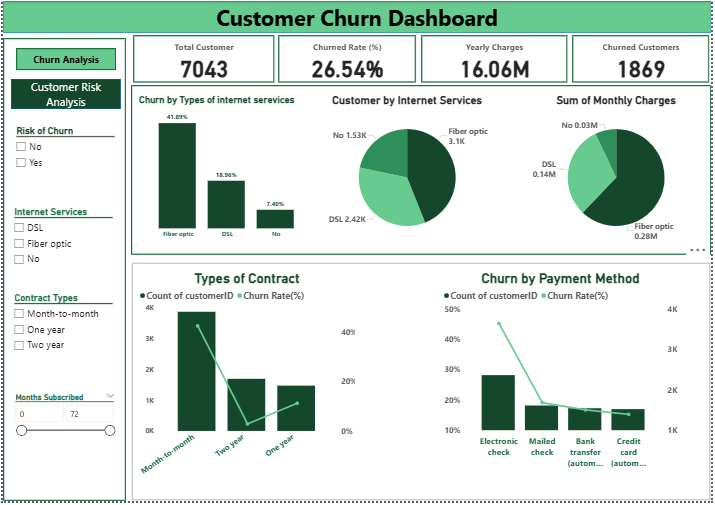

This screenshot's page, from the dashboard's own definition file:
{"tool":"powerbi","page":{"name":"Page 1","canvas":[1700,1200],"ordinal":0},"visuals":[{"type":"shape","box":[0,0,1700,76.8],"z":0},{"type":"cardVisual","fields":{"Data":["Clean_Telco_Customer_Churn_Dataset.Total Customer"]},"box":[307.1,76.8,349.1,124.3],"z":1000},{"type":"shape","box":[0,88.8,295.2,1111.2],"z":2000},{"type":"shape","box":[31.7,112.3,240.5,53.3],"z":3000},{"type":"shape","box":[18.7,187.2,263.5,72],"z":4000},{"type":"slicer","fields":{"Values":["Clean_Telco_Customer_Churn_Dataset.Churn"]},"box":[19.2,292.8,261.6,136.8],"z":5000},{"type":"slicer","fields":{"Values":["Clean_Telco_Customer_Churn_Dataset.Contract"]},"box":[14.4,693.6,261.6,208.8],"z":6000},{"type":"slicer","fields":{"Values":["Clean_Telco_Customer_Churn_Dataset.tenure"]},"box":[16.8,933.6,261.6,225.6],"z":7000},{"type":"slicer","fields":{"Values":["Clean_Telco_Customer_Churn_Dataset.InternetService"]},"box":[14.4,487.2,261.6,158.4],"z":8000},{"type":"cardVisual","fields":{"Data":["Clean_Telco_Customer_Churn_Dataset.Churn Rate(%)"]},"box":[656.2,76.8,341.8,124.3],"z":9000},{"type":"cardVisual","fields":{"Data":["Clean_Telco_Customer_Churn_Dataset.Yearly Charge"]},"box":[998.1,76.8,361.9,124.3],"z":10000},{"type":"cardVisual","fields":{"Data":["Clean_Telco_Customer_Churn_Dataset.Churned Customers"]},"box":[1360,76.8,340,124.3],"z":11000},{"type":"shape","box":[307.1,201.1,1392.9,407.6],"z":12000},{"type":"clusteredColumnChart","title":"Churn by Types of internet serevices","fields":{"Category":["Clean_Telco_Customer_Churn_Dataset.InternetService"],"Y":["Clean_Telco_Customer_Churn_Dataset.Churn Rate(%)"]},"box":[321.7,223,433.2,356.5],"z":13000},{"type":"pieChart","title":"Customer by Internet Services","fields":{"Y":["CountNonNull(Clean_Telco_Customer_Churn_Dataset.customerID)"],"Category":["Clean_Telco_Customer_Churn_Dataset.InternetService"]},"box":[760.4,223,418.6,371.1],"z":14000},{"type":"pieChart","title":"Sum of Monthly Charges","fields":{"Category":["Clean_Telco_Customer_Churn_Dataset.InternetService"],"Y":["Sum(Clean_Telco_Customer_Churn_Dataset.MonthlyCharges)"]},"box":[1263.1,223,418.6,371.1],"z":15000},{"type":"shape","box":[307.2,626.4,1392,573.6],"z":15001},{"type":"lineClusteredColumnComboChart","title":"Types of Contract","fields":{"Category":["Clean_Telco_Customer_Churn_Dataset.Contract"],"Y":["CountNonNull(Clean_Telco_Customer_Churn_Dataset.customerID)"],"Y2":["Clean_Telco_Customer_Churn_Dataset.Churn Rate(%)"]},"box":[321.6,645.6,528,513.6],"z":15002},{"type":"lineClusteredColumnComboChart","title":"Churn by Payment Method","fields":{"Y2":["Clean_Telco_Customer_Churn_Dataset.Churn Rate(%)"],"Y":["CountNonNull(Clean_Telco_Customer_Churn_Dataset.customerID)"],"Category":["Clean_Telco_Customer_Churn_Dataset.PaymentMethod"]},"box":[1051.2,645.6,573.6,484.8],"z":15003}]}

Visuals, with their boxes in screenshot pixels (x1, y1, x2, y2), scaled from the page's 1700x1200 canvas onto the 715x505 screenshot:
shape: 0,0,714,32
cardVisual - Clean_Telco_Customer_Churn_Dataset.Total Customer: 129,32,276,85
shape: 0,37,124,504
shape: 13,47,114,70
shape: 8,79,119,109
slicer - Clean_Telco_Customer_Churn_Dataset.Churn: 8,123,118,181
slicer - Clean_Telco_Customer_Churn_Dataset.Contract: 6,292,116,380
slicer - Clean_Telco_Customer_Churn_Dataset.tenure: 7,393,117,488
slicer - Clean_Telco_Customer_Churn_Dataset.InternetService: 6,205,116,272
cardVisual - Clean_Telco_Customer_Churn_Dataset.Churn Rate(%): 276,32,420,85
cardVisual - Clean_Telco_Customer_Churn_Dataset.Yearly Charge: 420,32,572,85
cardVisual - Clean_Telco_Customer_Churn_Dataset.Churned Customers: 572,32,714,85
shape: 129,85,714,256
"Churn by Types of internet serevices" clusteredColumnChart: 135,94,318,244
"Customer by Internet Services" pieChart: 320,94,496,250
"Sum of Monthly Charges" pieChart: 531,94,707,250
shape: 129,264,714,504
"Types of Contract" lineClusteredColumnComboChart: 135,272,357,488
"Churn by Payment Method" lineClusteredColumnComboChart: 442,272,683,476
